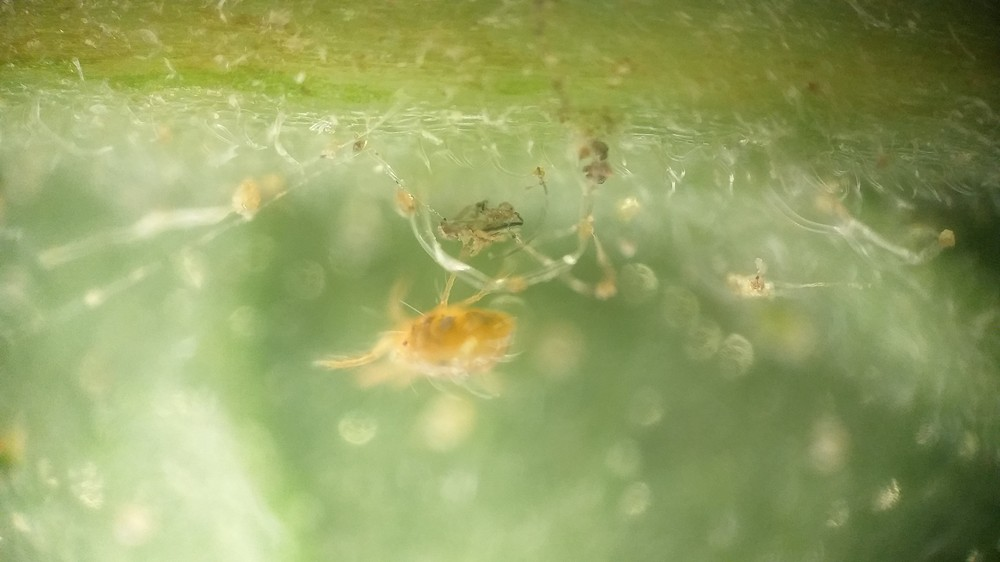Aracnido Rojo: (309, 260, 562, 438)
